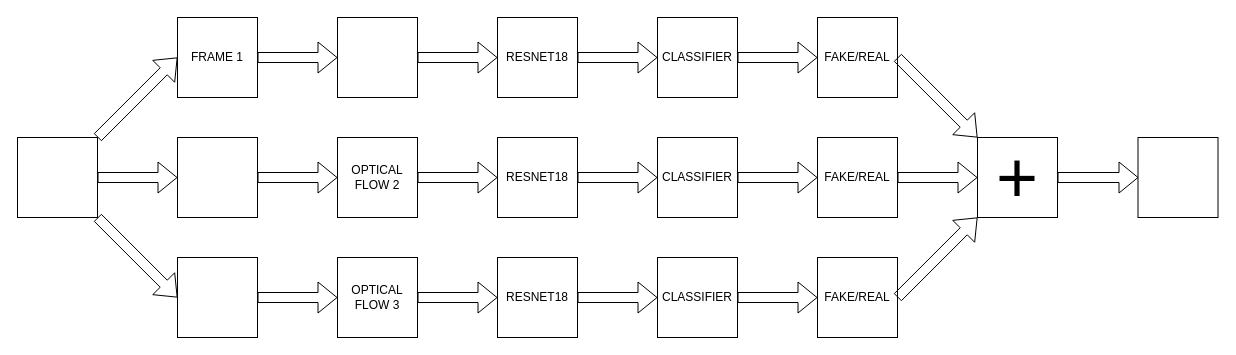
The diagram is 1236 pixels wide and 355 high, and some of its shapes have lost their labels. Here are the shapes that lost their labels. From the top down, the centre of each, then its label:
(377,57): OPTICAL FLOW 1
(57,177): VIDEO
(217,177): FRAME 2
(1177,177): VIDEO IS TOT% FAKE
(217,297): FRAME 3
